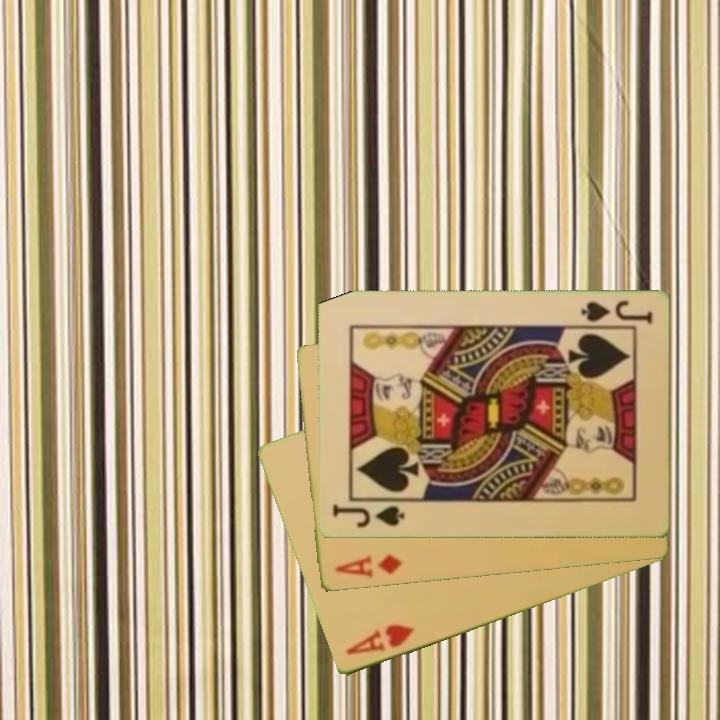Ad: (331, 551, 405, 581)
Ah: (342, 621, 417, 658)
Js: (574, 297, 654, 329), (329, 501, 407, 531)
